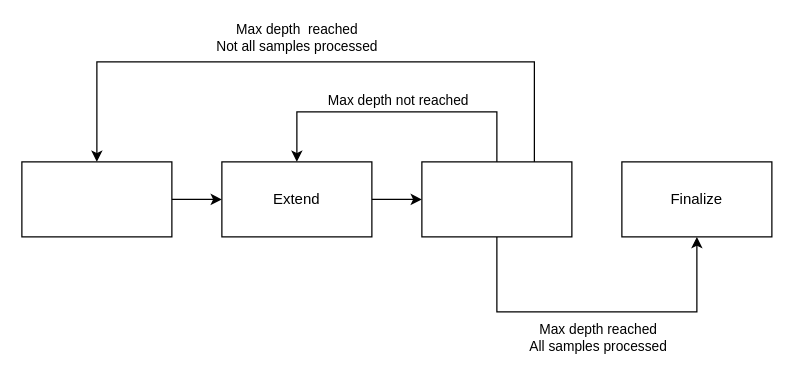
Image size: 794x375. Some labels were removed from this diagram. Here are the shapes that lost their labels. From the top down, the centre of each, then its label:
point 96,199: Generate
point 496,199: Shade
